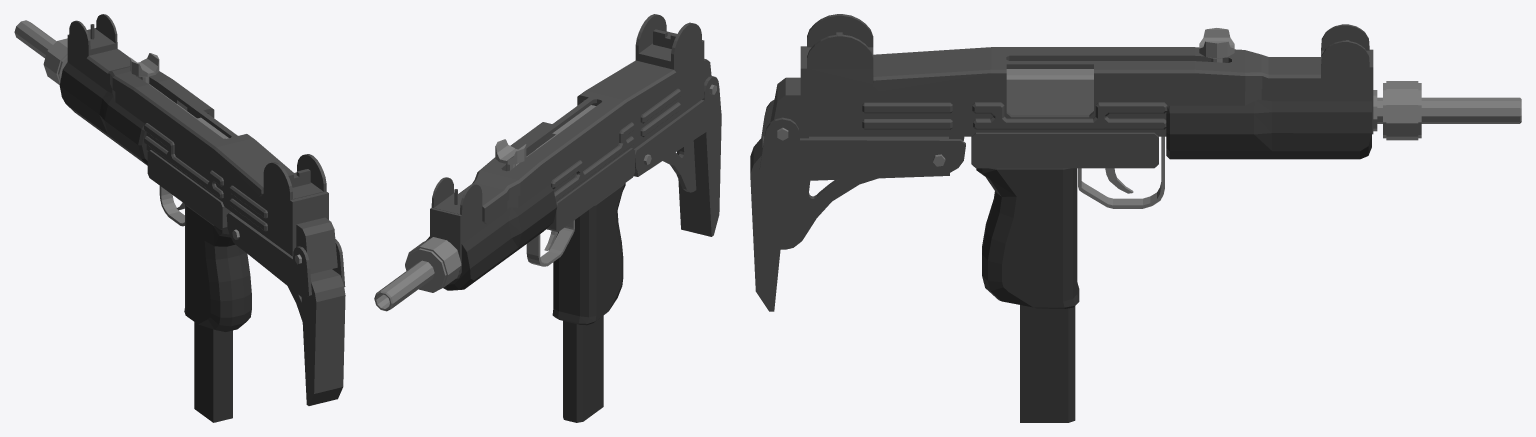
The model's file is Uzi.fbx.
The picture shows the model from 3 angles, left to right: view 1: azimuth 30°, elevation 25°; view 2: azimuth 150°, elevation 25°; view 3: azimuth 270°, elevation 25°; orthographic projection. The views are drawn at different scales.
Visible parts, largest first — view 1: Uzi, Stock, Magazin, Bolt; view 2: Uzi, Stock, Magazin, Bolt; view 3: Uzi, Stock, Magazin, Bolt.
Boxes of the visible parts, <box> form: Uzi: <box>14,14,337,331</box>; Stock: <box>226,212,345,405</box>; Magazin: <box>194,322,232,422</box>; Bolt: <box>130,53,228,138</box>; Uzi: <box>374,14,711,325</box>; Stock: <box>633,76,721,236</box>; Magazin: <box>563,315,603,422</box>; Bolt: <box>495,105,595,171</box>; Uzi: <box>770,14,1521,308</box>; Stock: <box>750,99,965,311</box>; Magazin: <box>1020,305,1075,422</box>; Bolt: <box>1006,28,1234,114</box>.
Bounding box in the file's own units: 69.6 × 411 × 733.
1 material, 1 textured.
